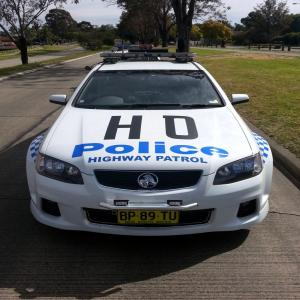Vehicle-registration-plate: (106, 212, 180, 231)
